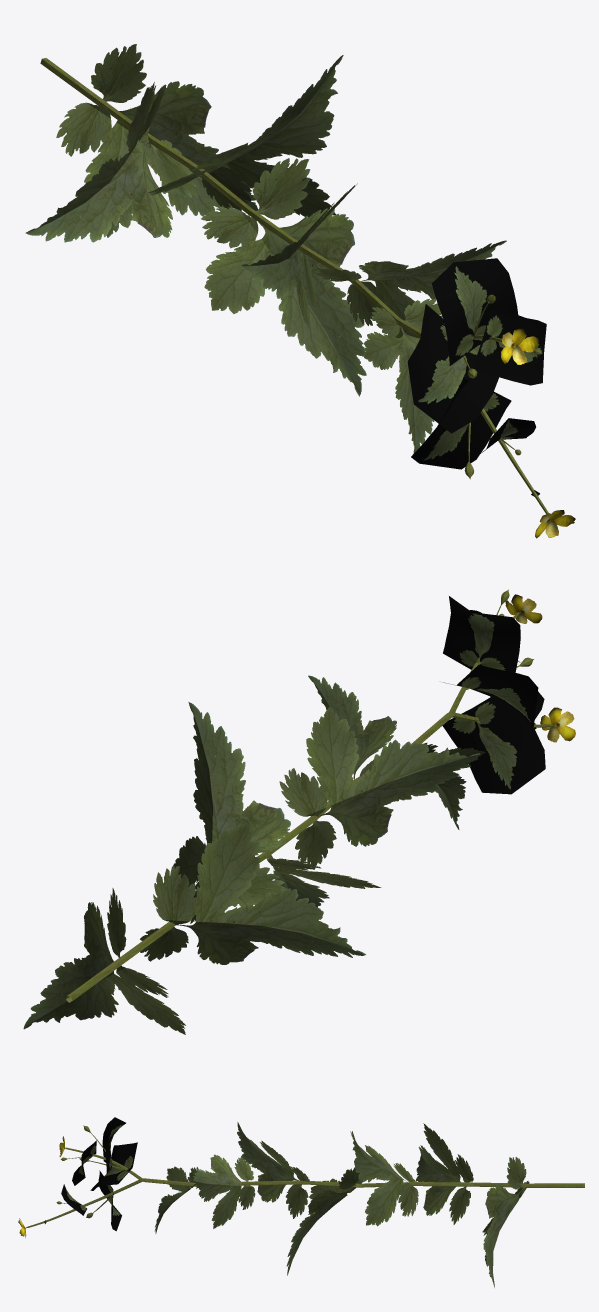
The picture shows the model from 3 angles, top to bottom: view 1: azimuth 30°, elevation 25°; view 2: azimuth 150°, elevation 25°; view 3: azimuth 270°, elevation 25°; orthographic projection. The views are drawn at different scales.
Visible parts, largest first — view 1: GC27_v1; view 2: GC27_v1; view 3: GC27_v1.
Boxes of the visible parts, x1,y1,x2,y2 form: GC27_v1: (25, 44, 575, 538); GC27_v1: (23, 589, 575, 1034); GC27_v1: (18, 1117, 584, 1287).
Size of the model in its own units: 0.579 by 0.5262 by 1.52.
4 materials, 4 textured.
